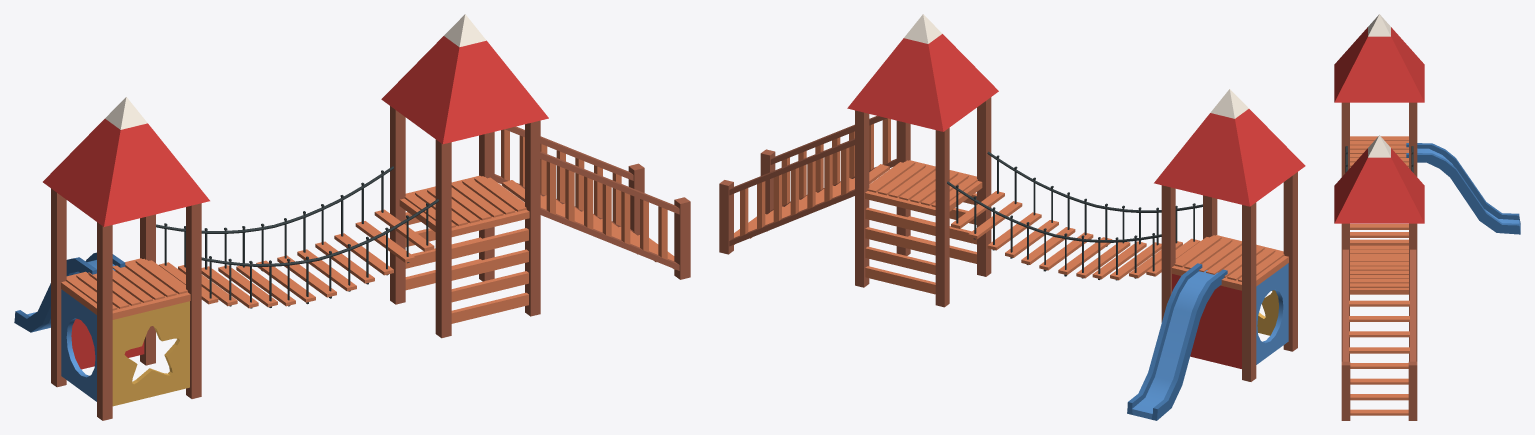
File: Castle_02.fbx
3 views of the same model, side by side, from view 1: azimuth 30°, elevation 25°; view 2: azimuth 150°, elevation 25°; view 3: azimuth 270°, elevation 25° (orthographic). The views are drawn at different scales.
Visible parts, largest first — view 1: Castle_02; view 2: Castle_02; view 3: Castle_02.
Boxes of the visible parts, box(x1,y1,x2,y2) form: Castle_02: box(14, 14, 690, 420); Castle_02: box(719, 14, 1305, 420); Castle_02: box(1334, 14, 1520, 420).
Size of the model in its own units: 9.38 by 4.44 by 3.49.
